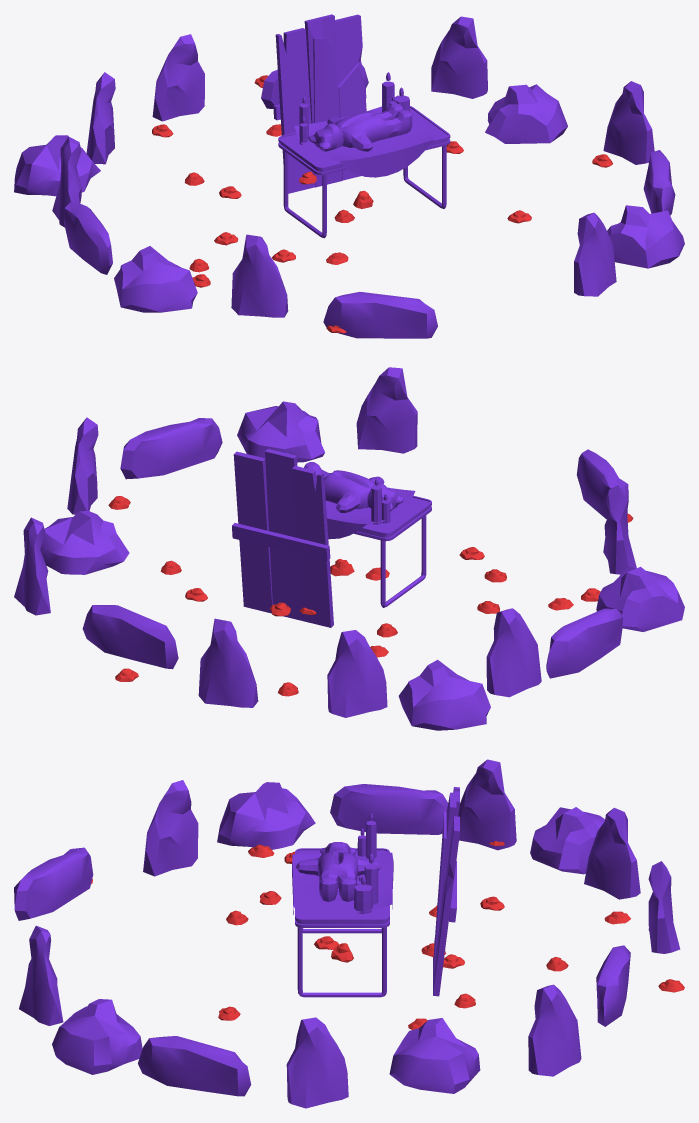
Rendered from Oltarz.fbx.
3 renders of one model, top to bottom at view 1: azimuth 30°, elevation 25°; view 2: azimuth 150°, elevation 25°; view 3: azimuth 270°, elevation 25°, orthographic. The views are drawn at different scales.
Visible parts, largest first — view 1: KamiennyKrag_1.001, KamiennyKrag_3.001, Deski.001, KamiennyKrag_2.001, Obrus.001, Stolik_Oltarz.001, Kamienie, Miś.001, Swieczki.001; view 2: KamiennyKrag_1.001, KamiennyKrag_3.001, Deski.001, KamiennyKrag_2.001, Kamienie, Stolik_Oltarz.001, Miś.001, Obrus.001, Swieczki.001; view 3: KamiennyKrag_1.001, KamiennyKrag_3.001, KamiennyKrag_2.001, Stolik_Oltarz.001, Kamienie, Deski.001, Obrus.001, Miś.001, Swieczki.001.
Boxes of the visible parts, bbox=[...] form: KamiennyKrag_1.001: bbox=[52, 16, 654, 317]; KamiennyKrag_3.001: bbox=[14, 84, 684, 312]; Deski.001: bbox=[273, 14, 366, 193]; KamiennyKrag_2.001: bbox=[64, 65, 675, 338]; Obrus.001: bbox=[294, 106, 434, 177]; Stolik_Oltarz.001: bbox=[278, 106, 450, 238]; Kamienie: bbox=[152, 75, 612, 333]; Miś.001: bbox=[308, 103, 412, 151]; Swieczki.001: bbox=[299, 72, 410, 144]; KamiennyKrag_1.001: bbox=[14, 367, 636, 717]; KamiennyKrag_3.001: bbox=[40, 401, 684, 730]; Deski.001: bbox=[232, 449, 333, 627]; KamiennyKrag_2.001: bbox=[82, 418, 628, 678]; Kamienie: bbox=[108, 496, 633, 696]; Stolik_Oltarz.001: bbox=[353, 495, 431, 607]; Miś.001: bbox=[304, 462, 404, 512]; Obrus.001: bbox=[326, 487, 415, 539]; Swieczki.001: bbox=[287, 452, 390, 524]; KamiennyKrag_1.001: bbox=[19, 759, 680, 1108]; KamiennyKrag_3.001: bbox=[52, 782, 604, 1093]; KamiennyKrag_2.001: bbox=[14, 784, 630, 1096]; Stolik_Oltarz.001: bbox=[295, 848, 389, 997]; Kamienie: bbox=[91, 841, 684, 1029]; Deski.001: bbox=[433, 787, 459, 996]; Obrus.001: bbox=[292, 852, 393, 914]; Miś.001: bbox=[295, 842, 380, 901]; Swieczki.001: bbox=[354, 813, 378, 913].
Bounding box in the file's own units: 668 × 184 × 640.
